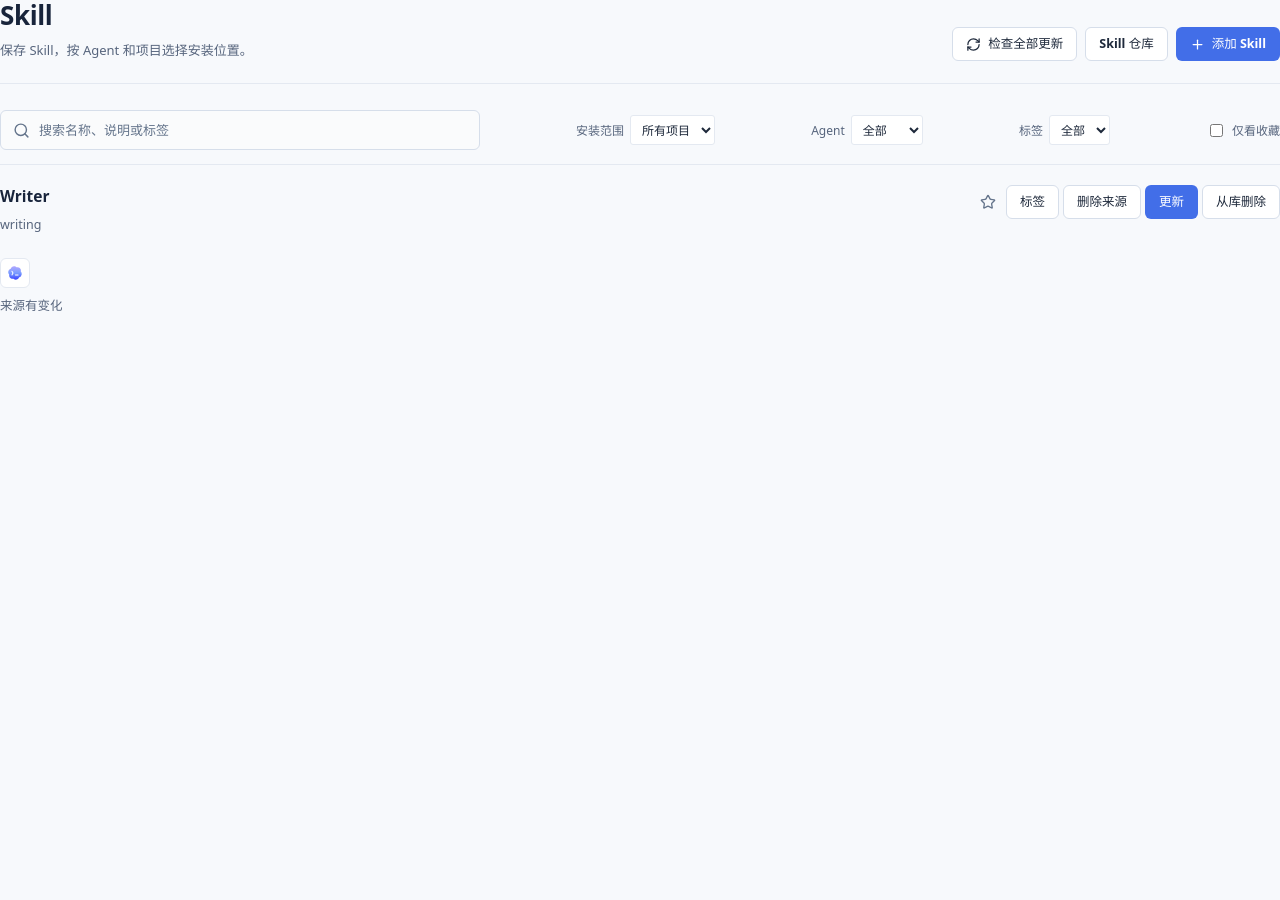
Test: does not write when the final file validation blocks an update and cancels its plan
What coordinates should you click on to do the following:
click the button "更新"
I would click on:
 (1172, 202)
Its box is left=1145, top=185, right=1198, bottom=219.
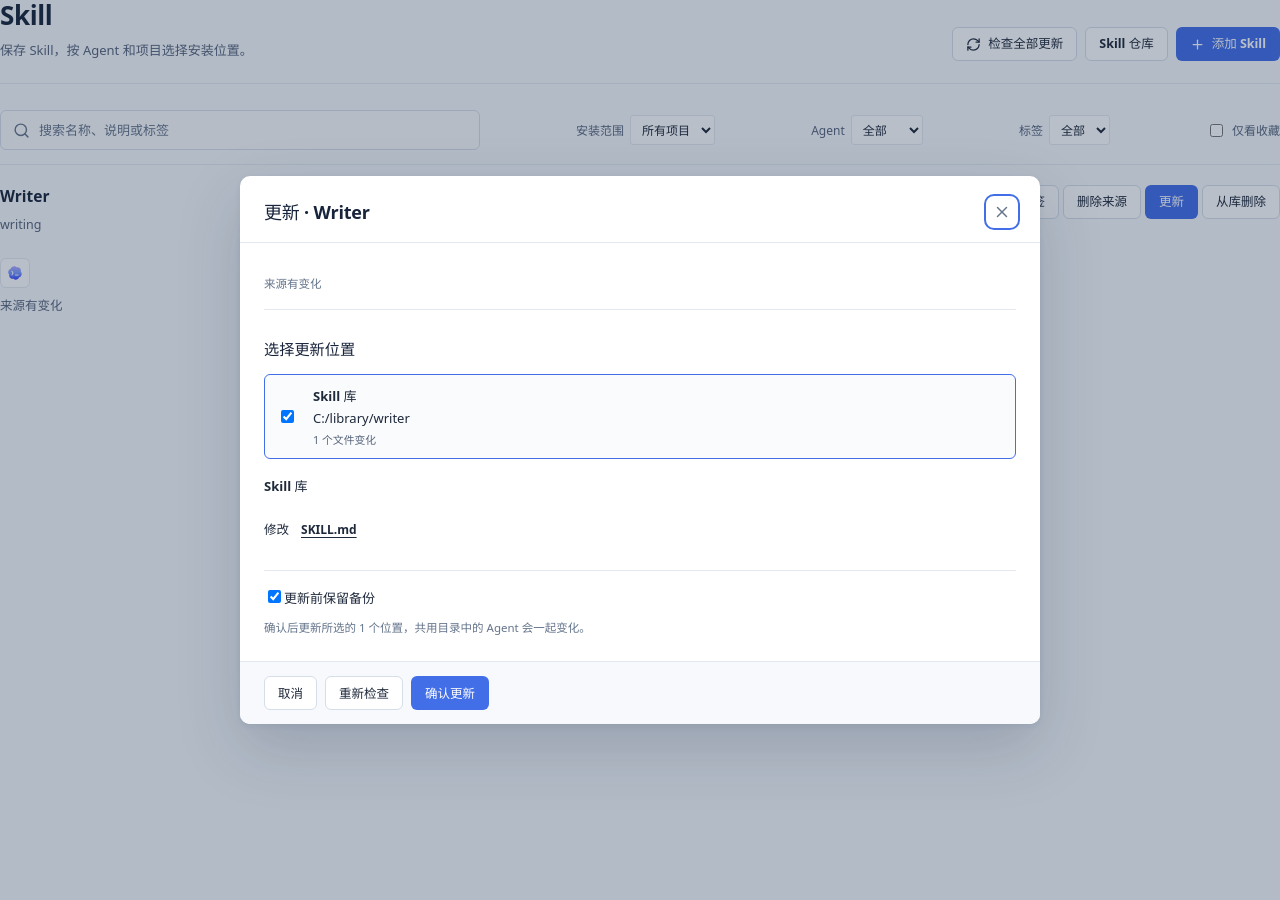
What coordinates should you click on to do the following:
click the button "确认更新"
I would click on:
 (450, 693)
Its box is left=411, top=676, right=489, bottom=710.
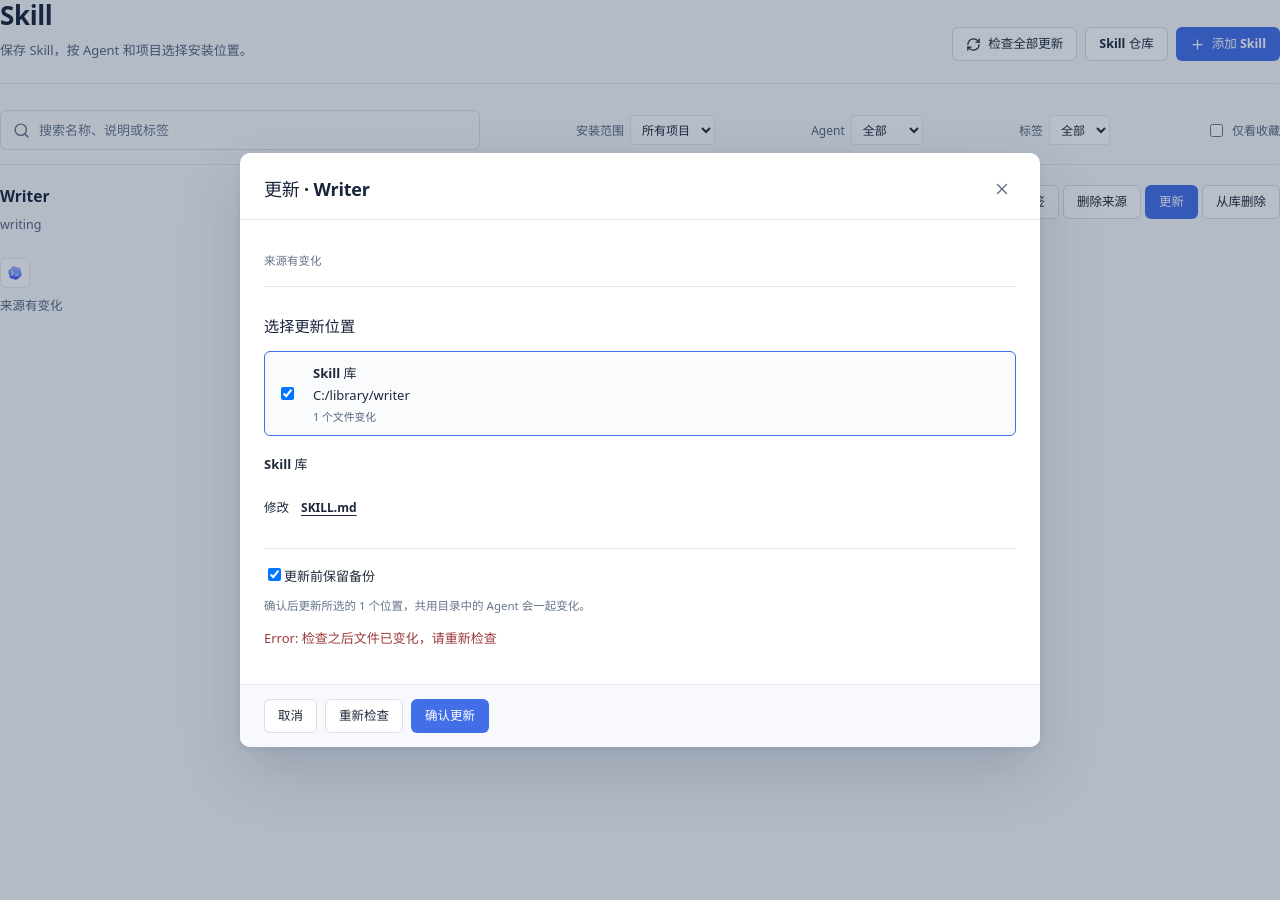
Now the message shows "检查之后文件已变化", box left=264, top=629, right=497, bottom=647
